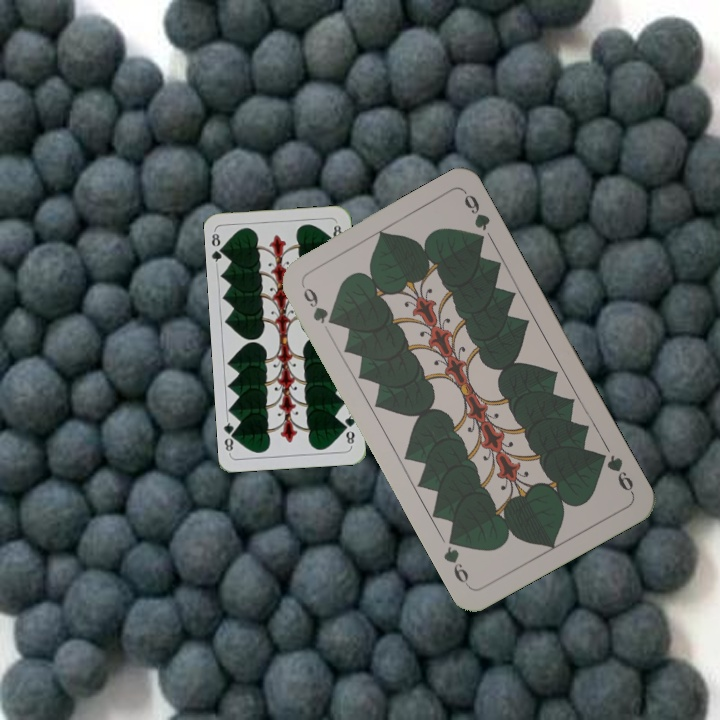G8: (207, 228, 228, 268), (340, 408, 358, 449)
G9: (593, 448, 637, 497), (297, 280, 339, 328)
